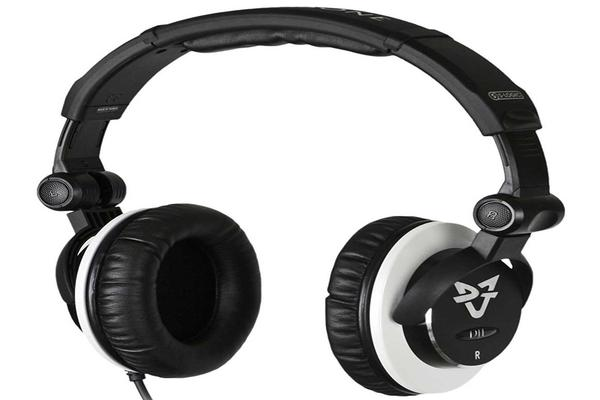headphone: (39, 9, 576, 400)
